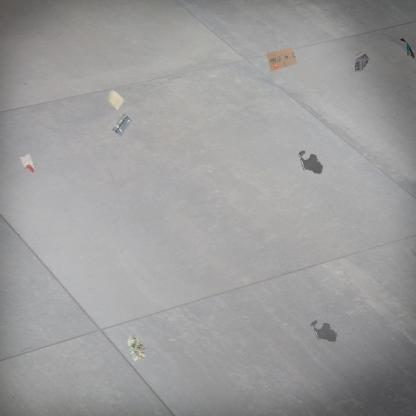dirty: (265, 45, 298, 71), (110, 111, 134, 139), (126, 334, 148, 362), (105, 88, 127, 112), (352, 48, 370, 74), (398, 36, 416, 60), (19, 153, 34, 174)
liquid: (297, 150, 324, 176), (310, 319, 338, 343)
